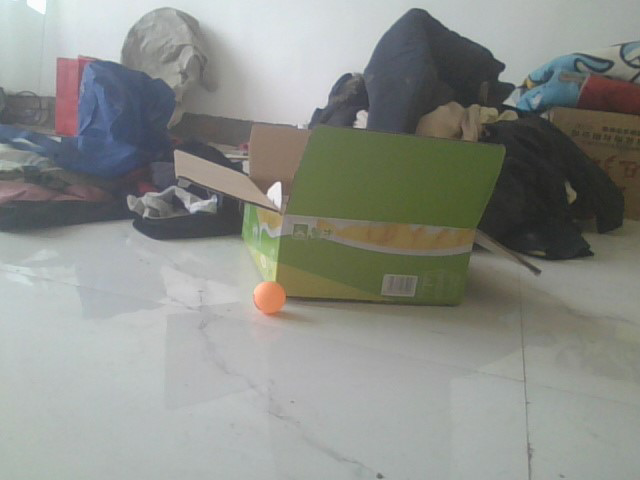ball: (253, 279, 288, 318)
